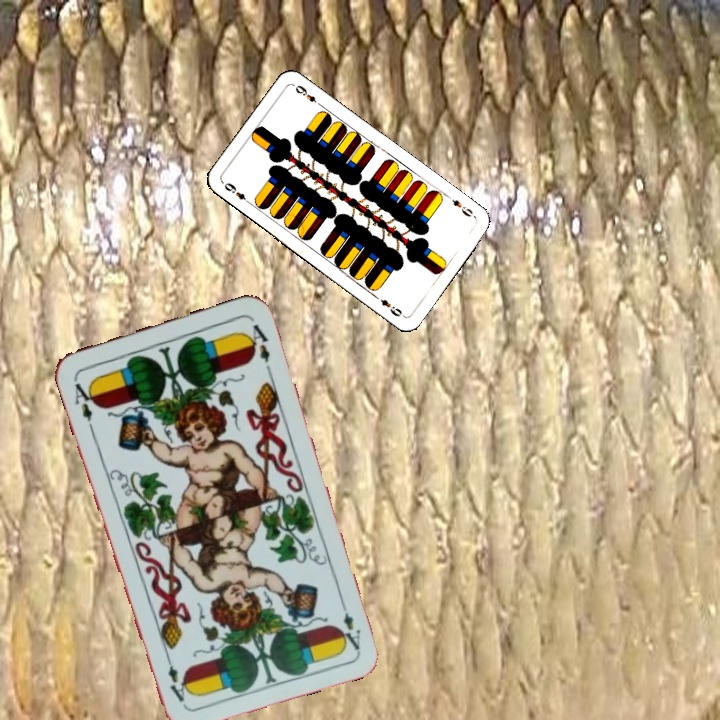E9: (220, 178, 254, 207), (443, 191, 476, 220)
EA: (69, 374, 100, 432), (334, 595, 363, 653)
